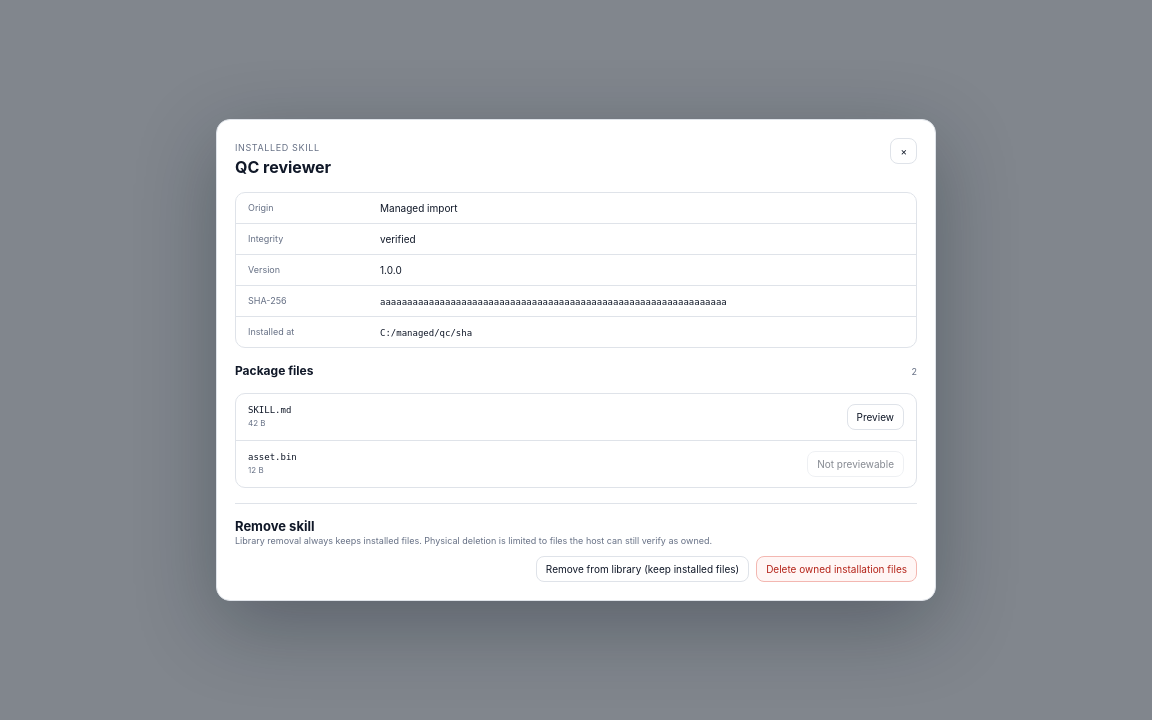
Test: SkillDetails › blocks duplicate removal requests and keeps a sanitized failure retryable
The width and height of the screenshot is (1152, 720).
Check: the heading "QC reviewer" is shown, box x1=235 y1=157 x2=331 y2=177
What coordinates should you click on to do the following:
click the button "Delete owned installation files"
I would click on:
 (837, 569)
Its box is x1=756 y1=556 x2=917 y2=582.
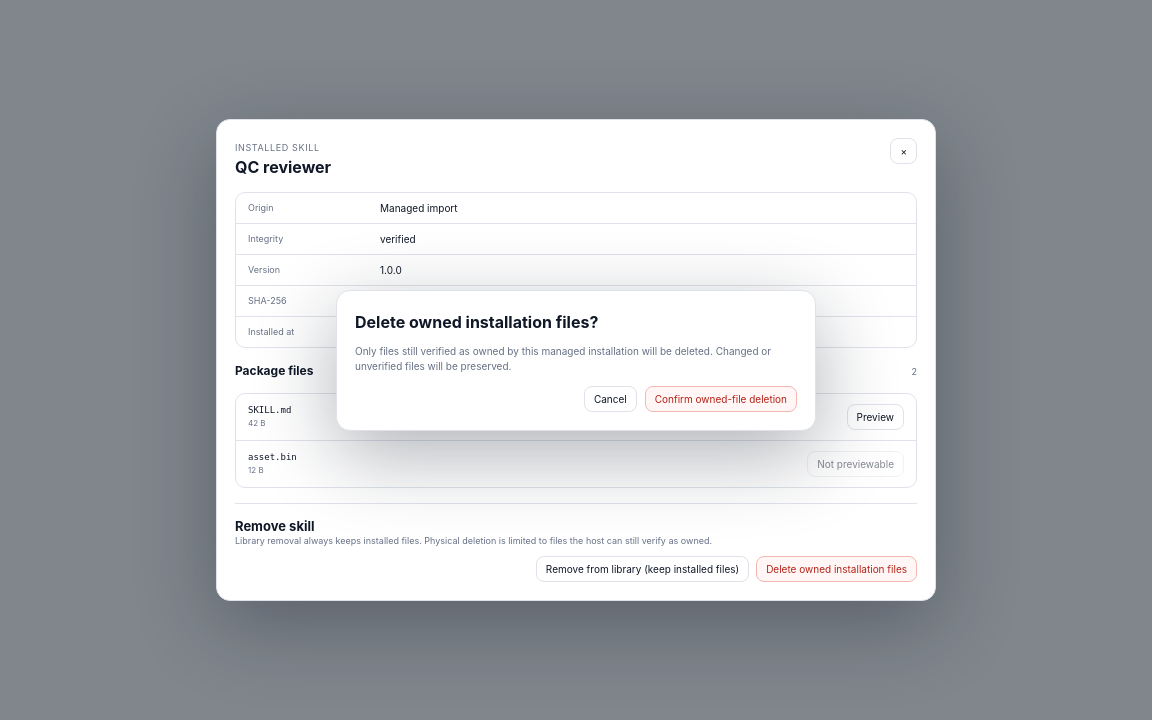
What coordinates should you click on to do the following:
click the button "Confirm owned-file deletion"
I would click on:
 (721, 398)
Its box is x1=645 y1=386 x2=797 y2=412.
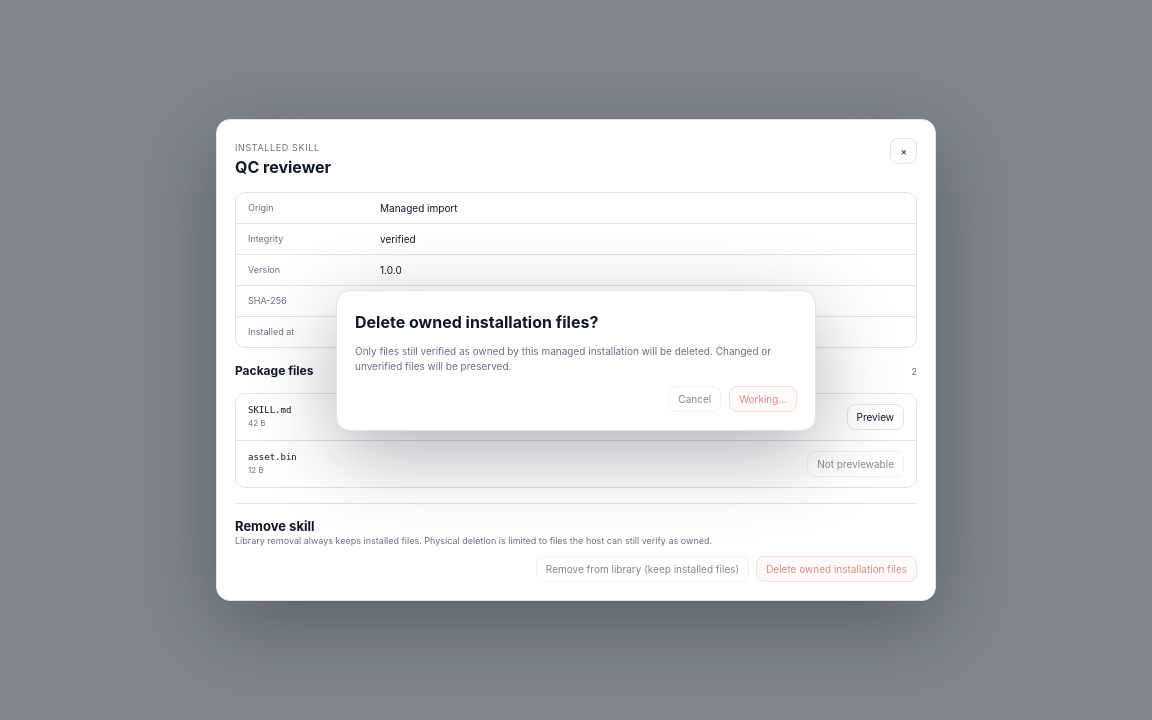
Check: the button "Working…" is disabled
What coordinates should you click on to do the following:
click the button "Working…"
I would click on:
 (763, 398)
Its box is x1=729 y1=386 x2=797 y2=412.
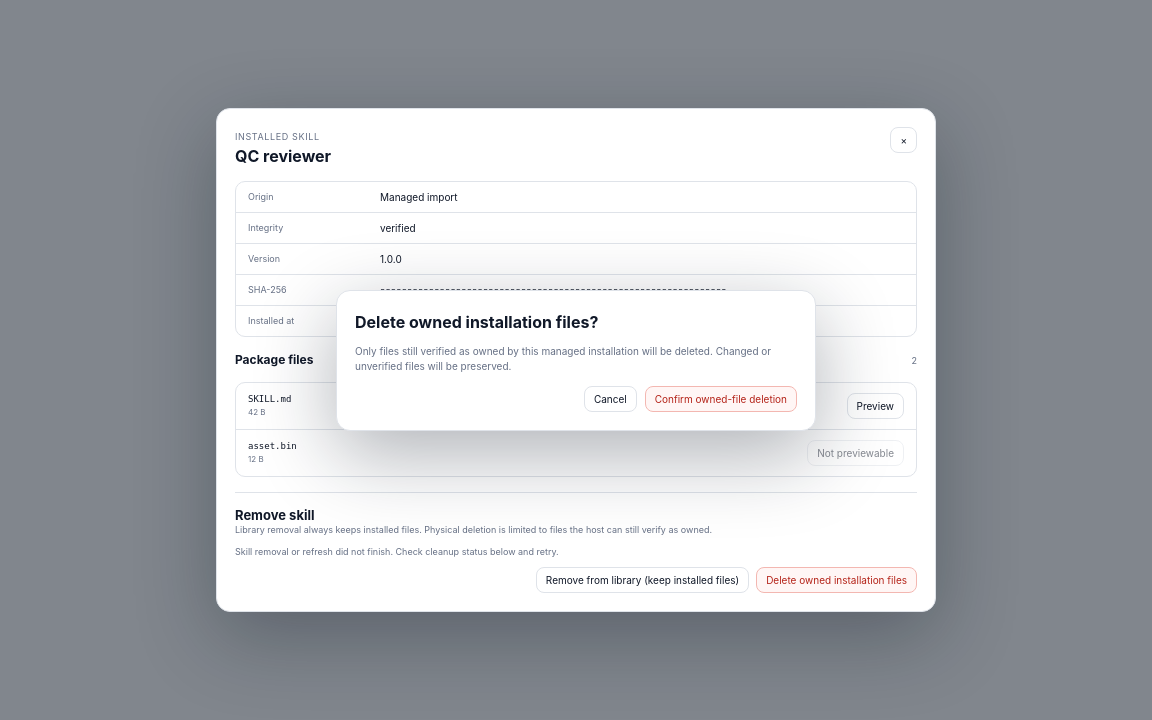
Check: the dialog named "Confirm skill removal" is shown, box x1=336 y1=290 x2=816 y2=430
Check: the message shows "Skill removal or refresh did not finish", box x1=235 y1=546 x2=559 y2=557
